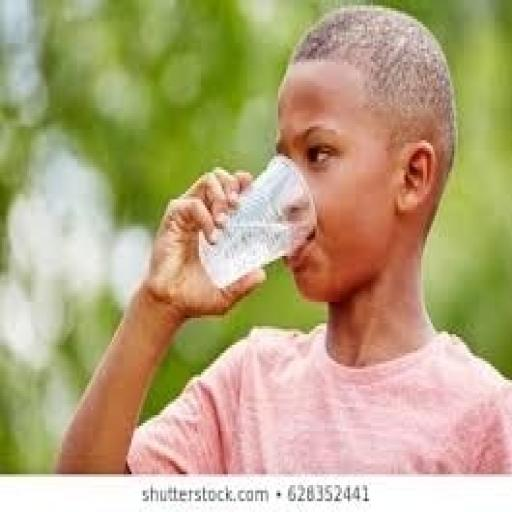drinking: (195, 151, 315, 291)
